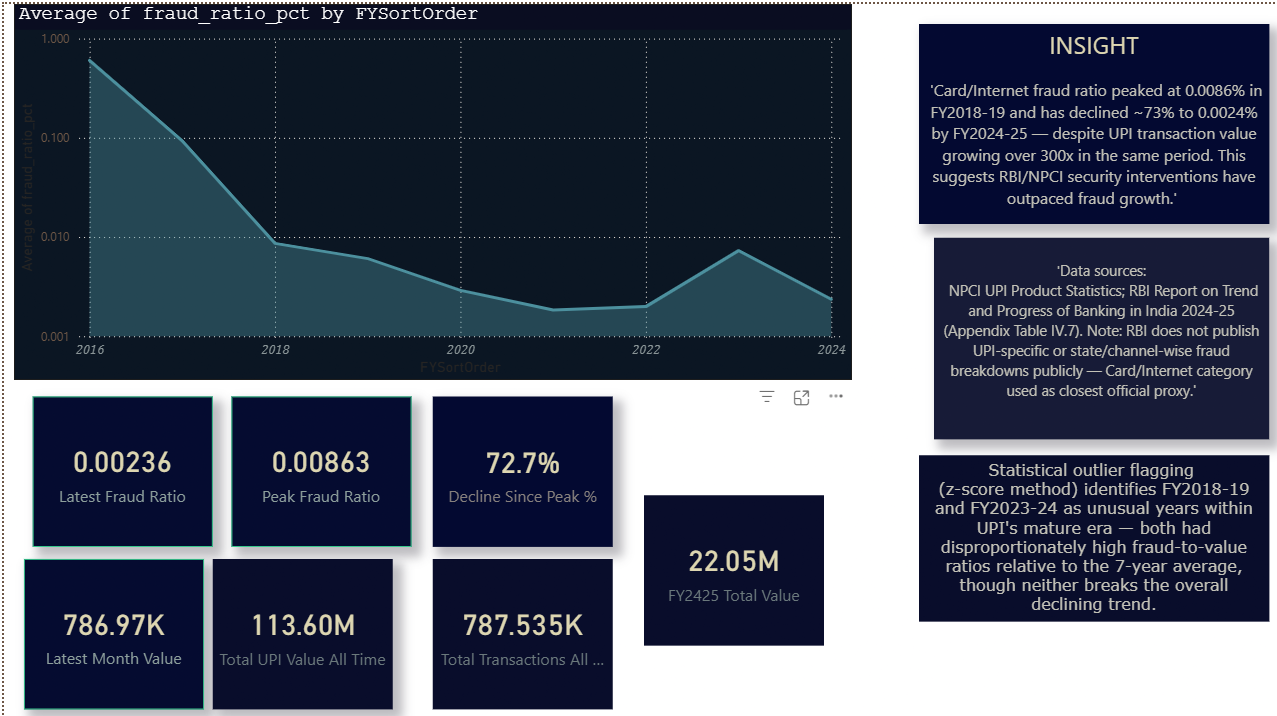

This screenshot's page, from the dashboard's own definition file:
{"tool":"powerbi","page":{"name":"Fraud_Risk_Page","canvas":[1280,720],"ordinal":0},"visuals":[{"type":"lineChart","fields":{"Y":["Avg(upi_fraud_ratio_FINAL.fraud_ratio_pct)"],"Category":["upi_fraud_ratio_FINAL.FYSortOrder"]},"box":[0,14.9,944.2,369.5],"z":0},{"type":"card","title":"Latest Fraud Ration","fields":{"Values":["upi_fraud_ratio_FINAL.Latest Fraud Ratio"]},"box":[16.2,400.6,180.4,120],"z":1000},{"type":"card","fields":{"Values":["upi_fraud_ratio_FINAL.Peak Fraud Ratio"]},"box":[216.4,400.6,180.4,120],"z":2000},{"type":"card","fields":{"Values":["upi_monthly_master_2016_2026.Latest Month Value"]},"box":[16.2,569.7,180.4,120.7],"z":3000},{"type":"card","fields":{"Values":["upi_fraud_ratio_FINAL.Decline Since Peak %"]},"box":[419.2,400.6,180.4,120],"z":4000},{"type":"textbox","box":[952.9,21.1,317.2,199],"z":5000},{"type":"textbox","box":[952.9,231.4,317.2,190.3],"z":6000},{"type":"textbox","box":[952.9,432.9,317.2,164.2],"z":7000},{"type":"card","fields":{"Values":["upi_monthly_master_2016_2026.Total Transactions All Time"]},"box":[420.5,571,179.1,120],"z":9000},{"type":"card","fields":{"Values":["upi_monthly_master_2016_2026.Total UPI Value All Time"]},"box":[216.4,569.7,180.4,120],"z":10000}]}

Visuals, with their boxes in screenshot pixels (x1, y1, x2, y2), scaled from the page's 1280x720 canvas onto the 1277x716 screenshot:
lineChart - Avg(upi_fraud_ratio_FINAL.fraud_ratio_pct) x upi_fraud_ratio_FINAL.FYSortOrder: left=0, top=15, right=942, bottom=382
"Latest Fraud Ration" card: left=16, top=398, right=196, bottom=518
card - upi_fraud_ratio_FINAL.Peak Fraud Ratio: left=216, top=398, right=396, bottom=518
card - upi_monthly_master_2016_2026.Latest Month Value: left=16, top=567, right=196, bottom=687
card - upi_fraud_ratio_FINAL.Decline Since Peak %: left=418, top=398, right=598, bottom=518
textbox: left=951, top=21, right=1267, bottom=219
textbox: left=951, top=230, right=1267, bottom=419
textbox: left=951, top=430, right=1267, bottom=594
card - upi_monthly_master_2016_2026.Total Transactions All Time: left=420, top=568, right=598, bottom=687
card - upi_monthly_master_2016_2026.Total UPI Value All Time: left=216, top=567, right=396, bottom=686
